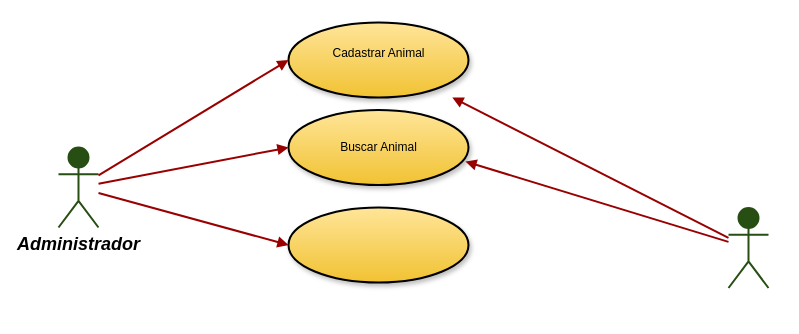
Some shapes in this 799 by 334 pixel diagram are drawn without their labels. Here are the shapes that lost their labels. From the top down, the centre of each, then its label:
pixel 379 246: Mudar Status Animal
pixel 748 247: Usuário
